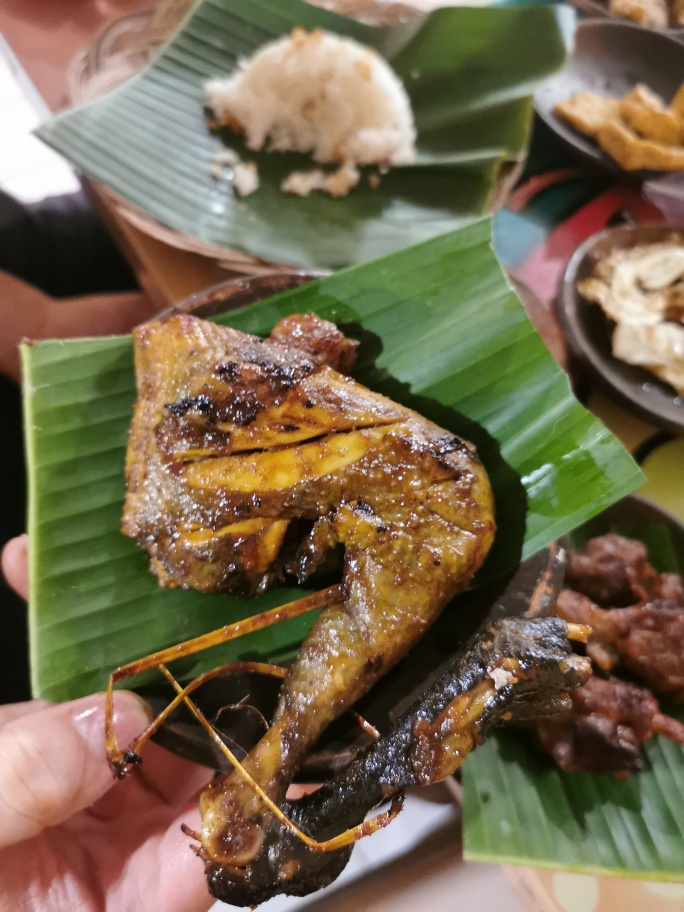ayam bakar: (112, 308, 600, 897)
